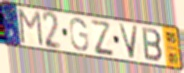2: (41, 9, 63, 51)
B: (141, 25, 165, 63)
G: (68, 17, 90, 52)
M: (17, 8, 45, 49)
V: (117, 22, 140, 60)
Z: (89, 18, 116, 56)
